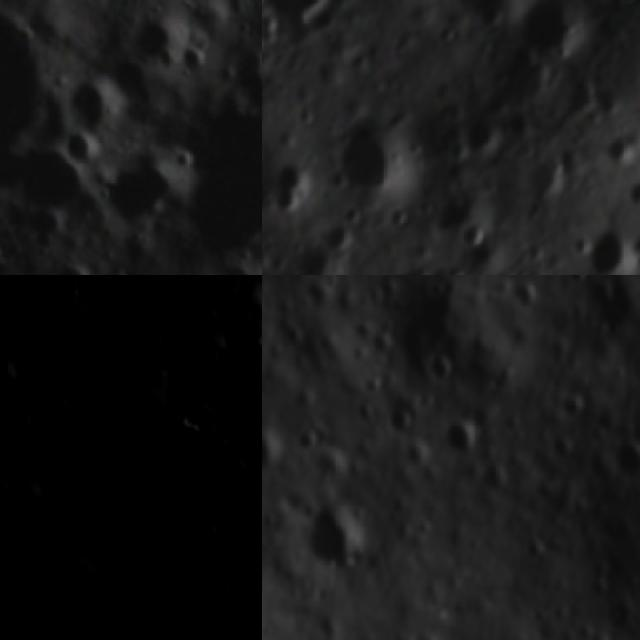crater: (38, 428, 209, 581), (172, 106, 262, 275), (329, 110, 416, 211), (300, 491, 380, 582), (98, 156, 182, 234), (62, 75, 135, 147), (508, 0, 589, 59), (488, 50, 559, 114), (571, 223, 640, 275), (130, 10, 189, 68), (212, 310, 262, 375), (52, 275, 117, 324), (436, 408, 490, 462), (262, 0, 342, 35), (118, 577, 172, 624), (303, 439, 348, 487), (421, 345, 464, 394), (318, 213, 366, 256), (56, 133, 102, 177), (500, 275, 548, 316), (595, 123, 640, 166), (81, 332, 126, 374), (178, 405, 228, 442), (9, 349, 49, 393), (609, 434, 640, 485), (454, 219, 498, 254), (382, 401, 422, 439), (177, 42, 213, 82), (262, 421, 284, 481), (0, 456, 30, 493), (618, 164, 640, 213), (21, 401, 55, 432), (134, 322, 164, 354), (0, 326, 15, 377), (253, 321, 262, 362), (31, 631, 55, 640)
